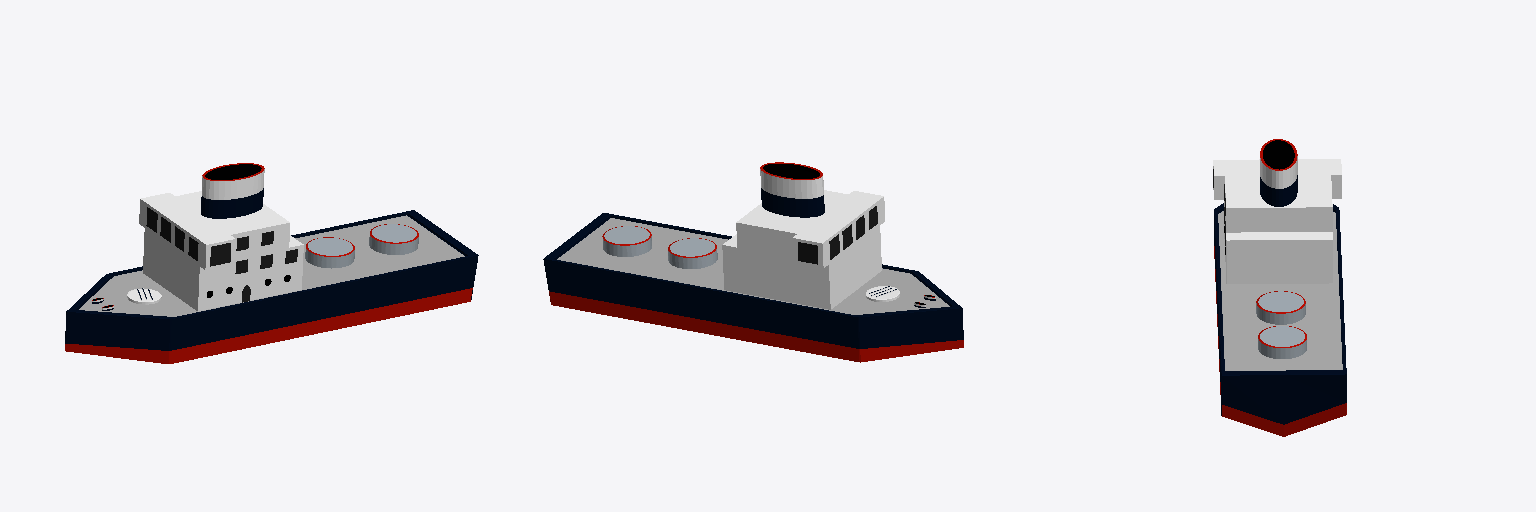
Rendered from boat1.obj.
The picture shows the model from 3 angles: view 1: azimuth 30°, elevation 25°; view 2: azimuth 150°, elevation 25°; view 3: azimuth 270°, elevation 25°; orthographic projection.
Visible parts, largest first — view 1: Cube.373_Cube.454; view 2: Cube.373_Cube.454; view 3: Cube.373_Cube.454.
Part boxes in pixels (x1,y1,x2,y2): Cube.373_Cube.454: (65,163,478,363); Cube.373_Cube.454: (543,162,963,362); Cube.373_Cube.454: (1213,139,1346,436).
Size of the model in its own units: 14.44 by 6.5 by 4.31.